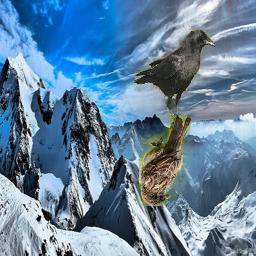Crow: (135, 28, 216, 126)
Sparrow: (139, 116, 191, 207)
